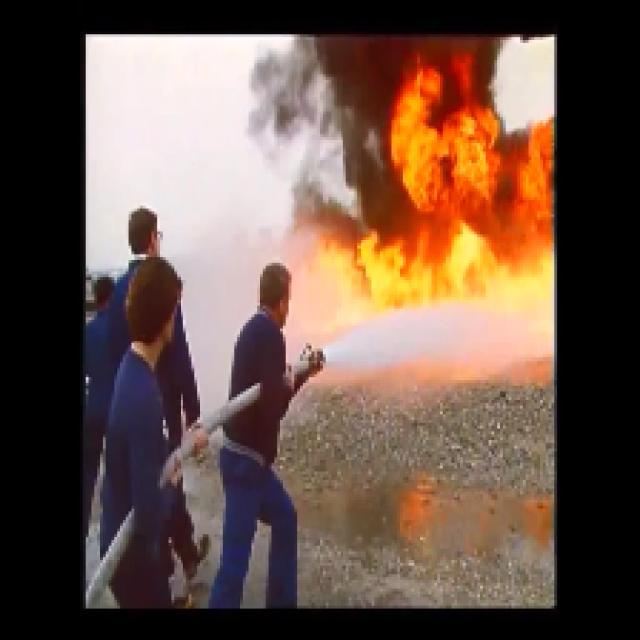fire: (400, 114, 551, 276)
smoke: (343, 32, 393, 125)
